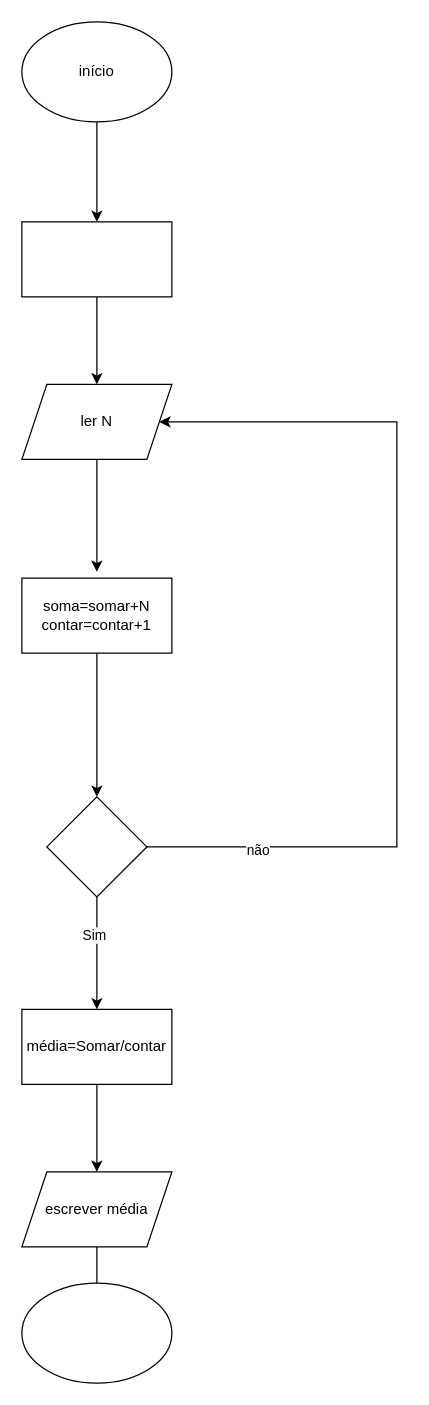
This 429x1405 diagram has some shape labels left out. Here are the shapes that lost their labels. From the top down, the centre of each, then its label:
At point 96,259: "somar=0 contar=0".
At point 96,846: "somar>1000".
At point 96,1332: "fim".
